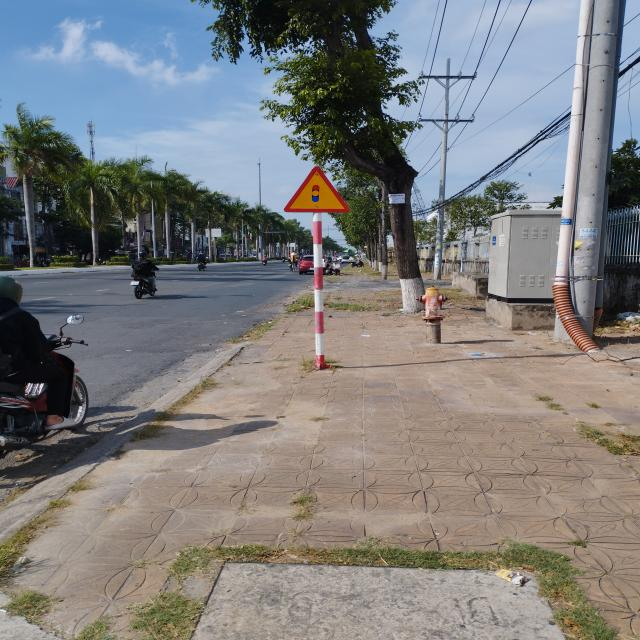Duong_Co_Go_Giam_Toc: (283, 166, 350, 212)
